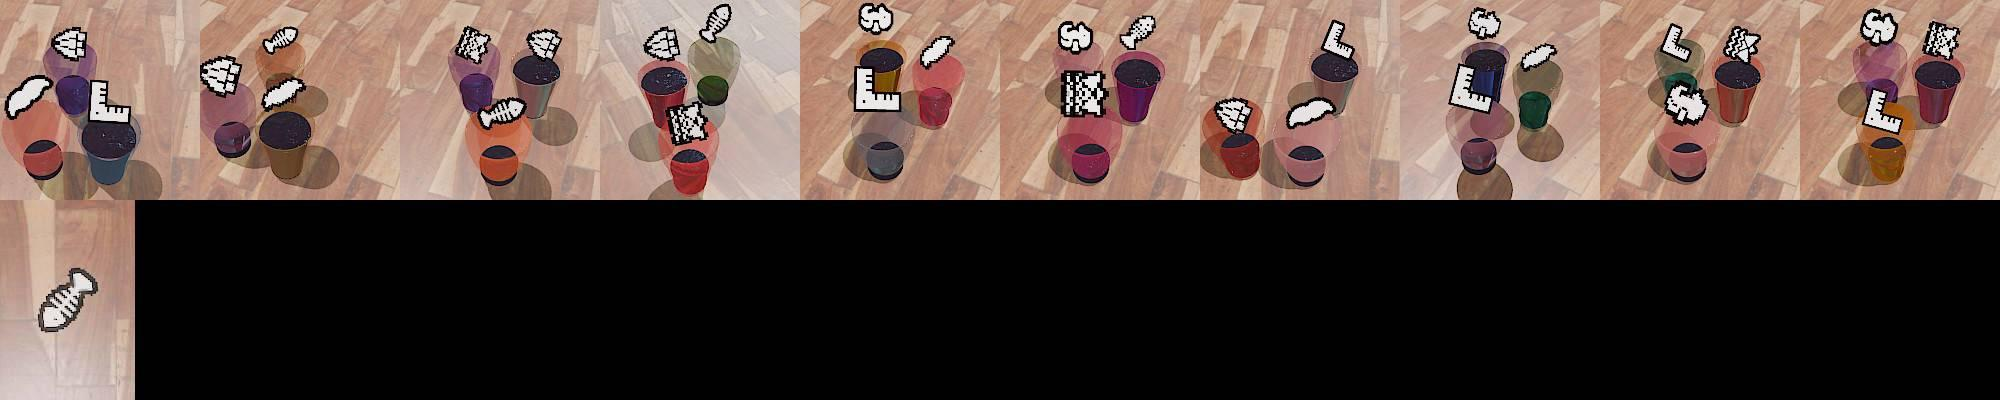icon: (36, 267, 100, 334), (1059, 68, 1110, 120), (853, 65, 903, 115), (1449, 62, 1496, 115), (4, 72, 55, 120), (86, 78, 134, 123), (1860, 85, 1904, 134), (666, 101, 711, 145), (1663, 81, 1708, 125), (200, 56, 243, 97), (477, 95, 527, 130), (1722, 24, 1762, 65), (261, 76, 307, 111), (1922, 20, 1962, 60), (1319, 18, 1355, 62), (1287, 96, 1336, 128), (1859, 8, 1899, 46), (454, 25, 492, 64), (1213, 97, 1254, 133), (1659, 22, 1694, 64), (643, 25, 682, 62), (1119, 13, 1156, 51), (50, 27, 90, 61), (1057, 19, 1094, 55), (700, 3, 732, 44), (919, 33, 954, 69), (525, 28, 563, 61), (858, 2, 894, 35), (1467, 6, 1502, 39), (1519, 42, 1557, 71), (262, 26, 298, 55)
